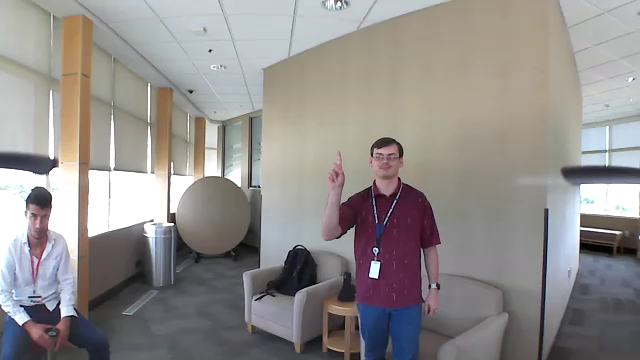up: (324, 145, 350, 196)
